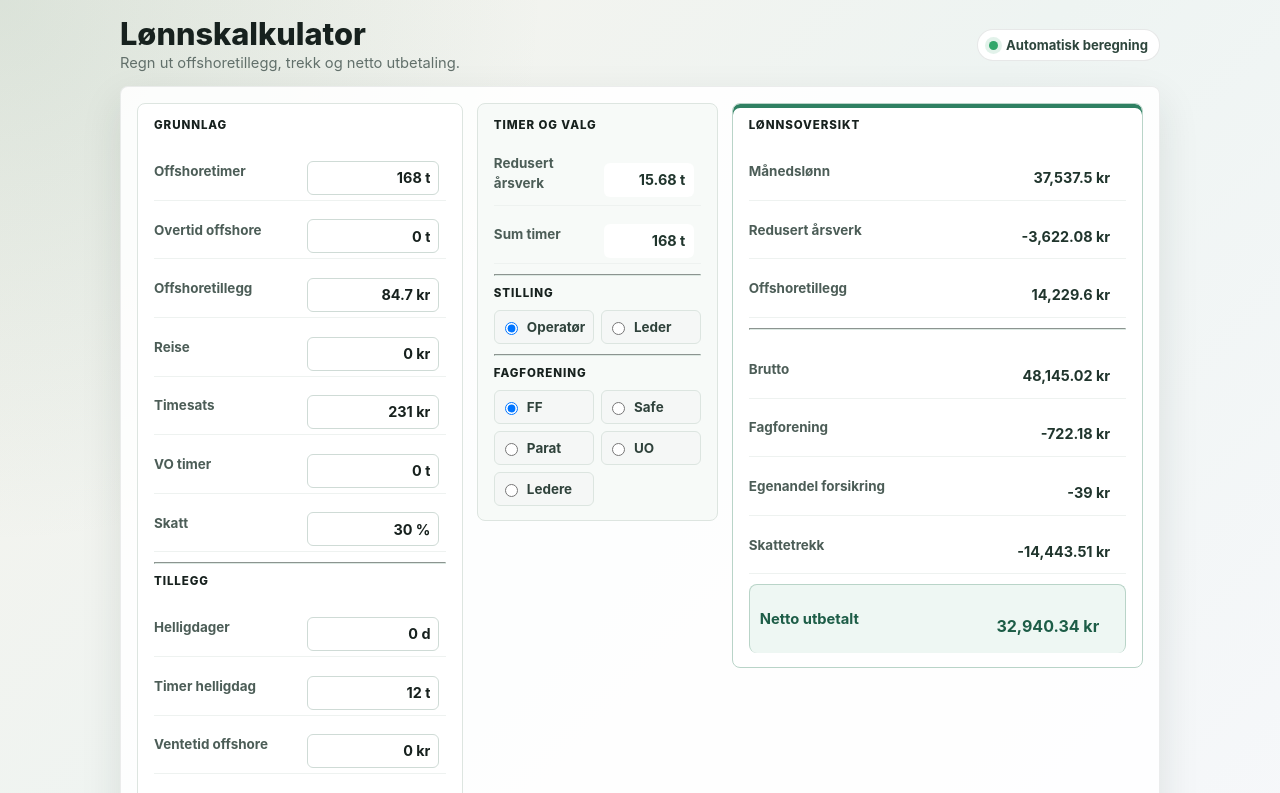
Test case: calculates holiday premium and holiday compensation from days and hours
Step 1. Replace the text in the field with id "holidayWorkDays" with "1 d" → point(373, 634), box [307, 617, 439, 651]
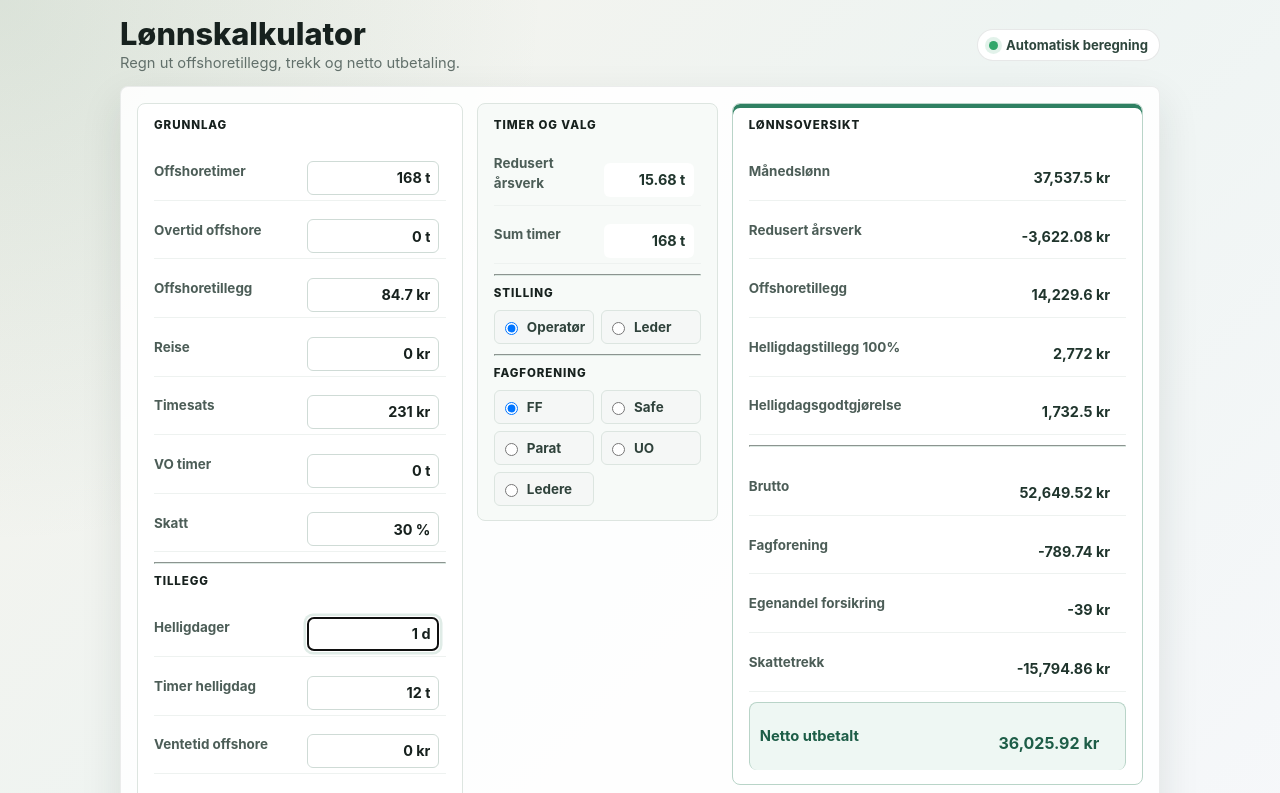
expect the field with id "holidayPremium100Summary" holds "2,772 kr": met, box [944, 337, 1119, 371]
expect the field with id "holidayAllowance75Summary" holds "1,732.5 kr": met, box [944, 395, 1119, 429]
expect the field labelled "Brutto" holds "52,649.52 kr": met, box [944, 476, 1119, 510]
